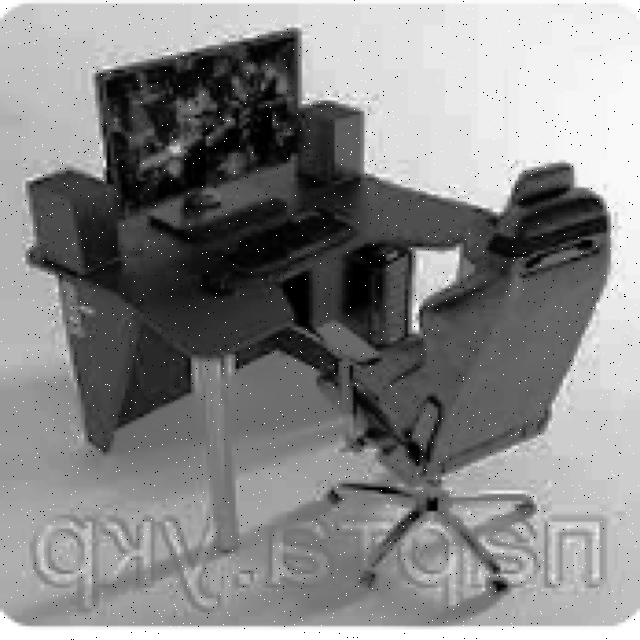book: (313, 160, 614, 595)
table: (29, 153, 504, 550)
